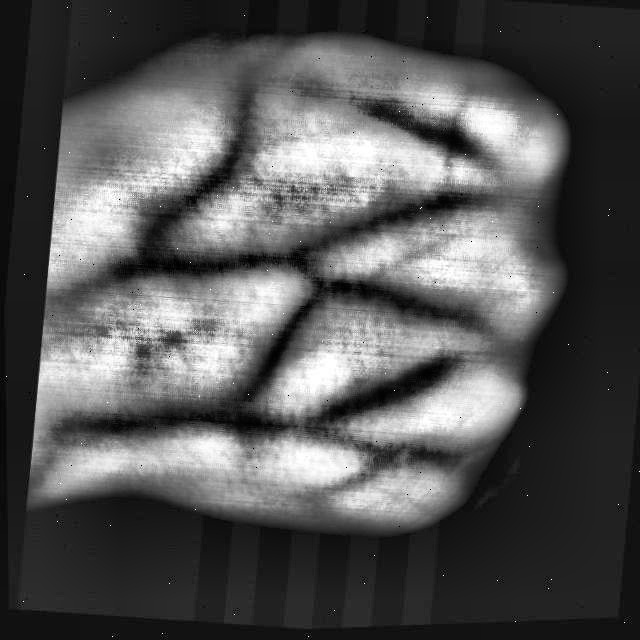Vein: (52, 237, 270, 313)
